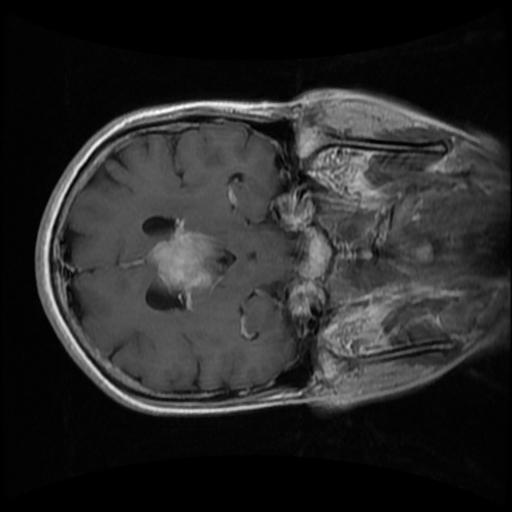meningioma: (146, 221, 226, 311)
